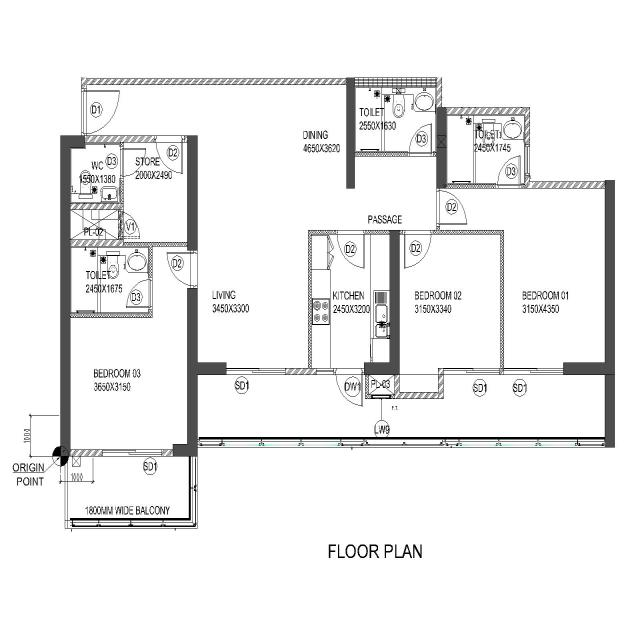Column: (58, 134, 85, 456), (361, 225, 401, 379), (603, 177, 617, 453), (186, 134, 200, 251), (344, 75, 357, 190), (434, 106, 451, 192), (561, 360, 619, 378)
Door: (187, 249, 200, 291), (80, 86, 89, 136), (334, 365, 366, 377), (153, 134, 185, 144), (118, 144, 126, 182), (494, 181, 524, 191), (435, 185, 441, 229), (334, 228, 366, 236), (402, 229, 435, 236), (147, 274, 153, 310)
Sliding Door: (503, 366, 566, 378), (100, 448, 164, 458), (226, 366, 286, 376), (442, 368, 500, 377)
Ventilator: (116, 207, 125, 241), (370, 393, 394, 400)
